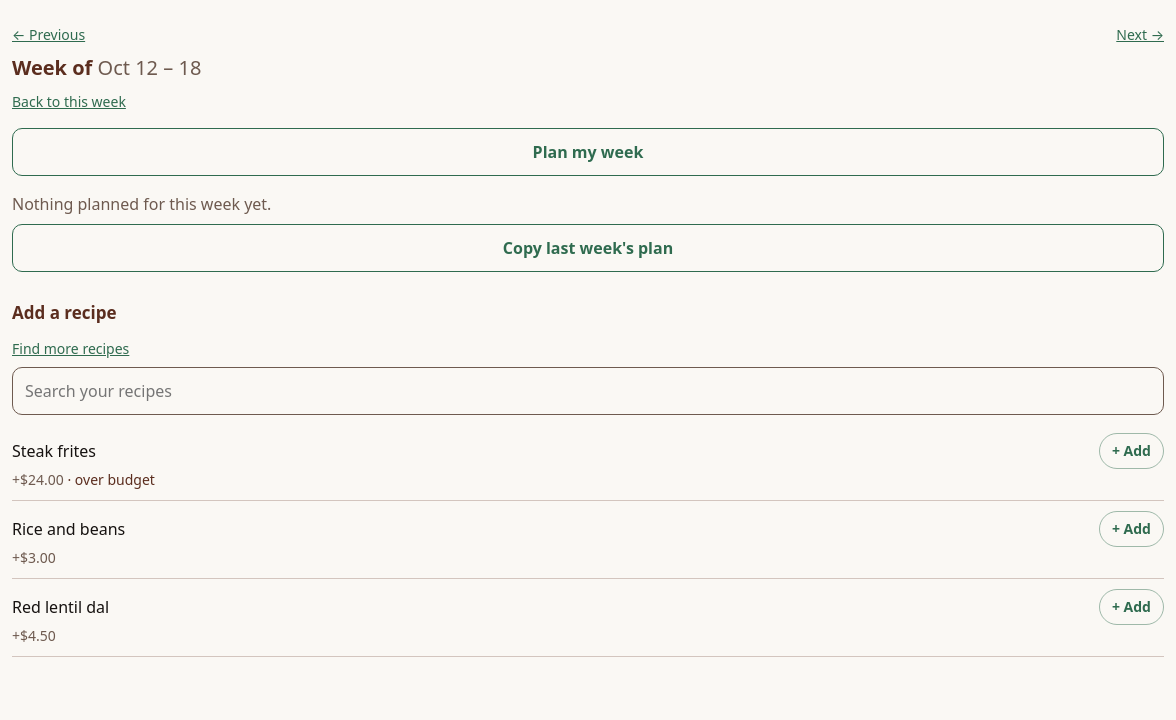
Test: PlanPage › suggests favorite cuisines first
The image size is (1176, 720).
Expected: the text "+$24.00" is shown, [12,470,64,488]
Click the button with aria-label "Add Steak frites". click: click(1132, 450)
box: [1099,432,1164,468]
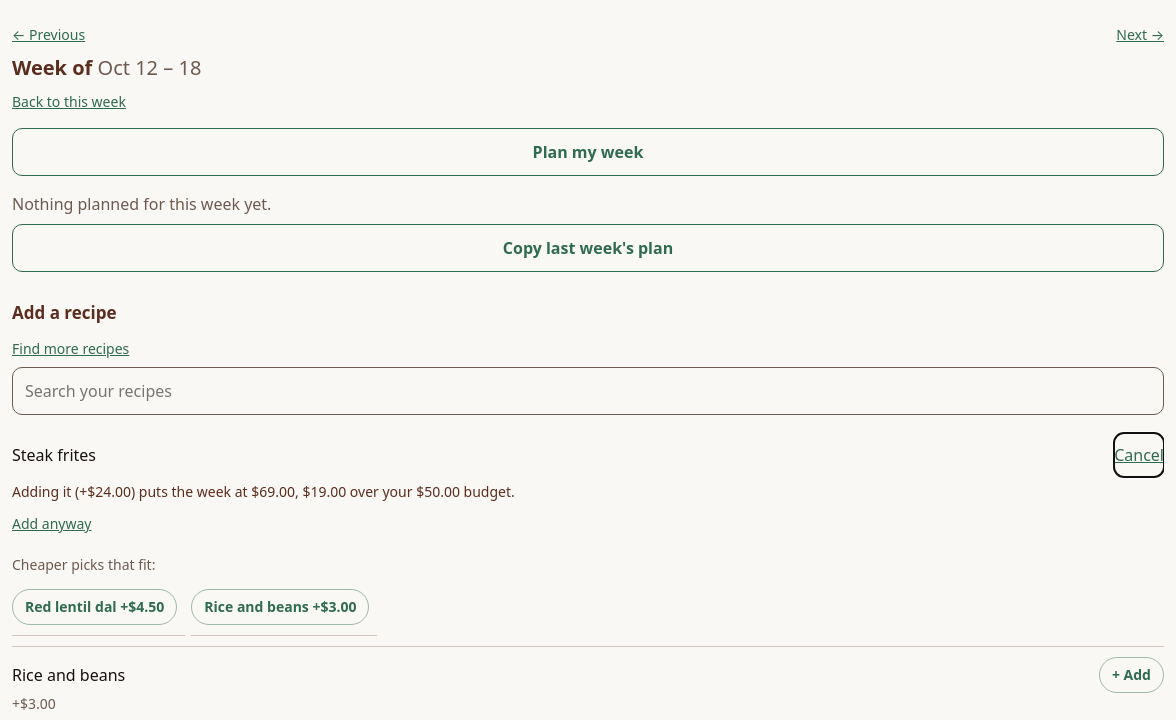
Now the buttons read "Red lentil dal +$4.50", "Rice and beans +$3.00", in this order, box [12,588,177,624]; [191,588,370,624]
